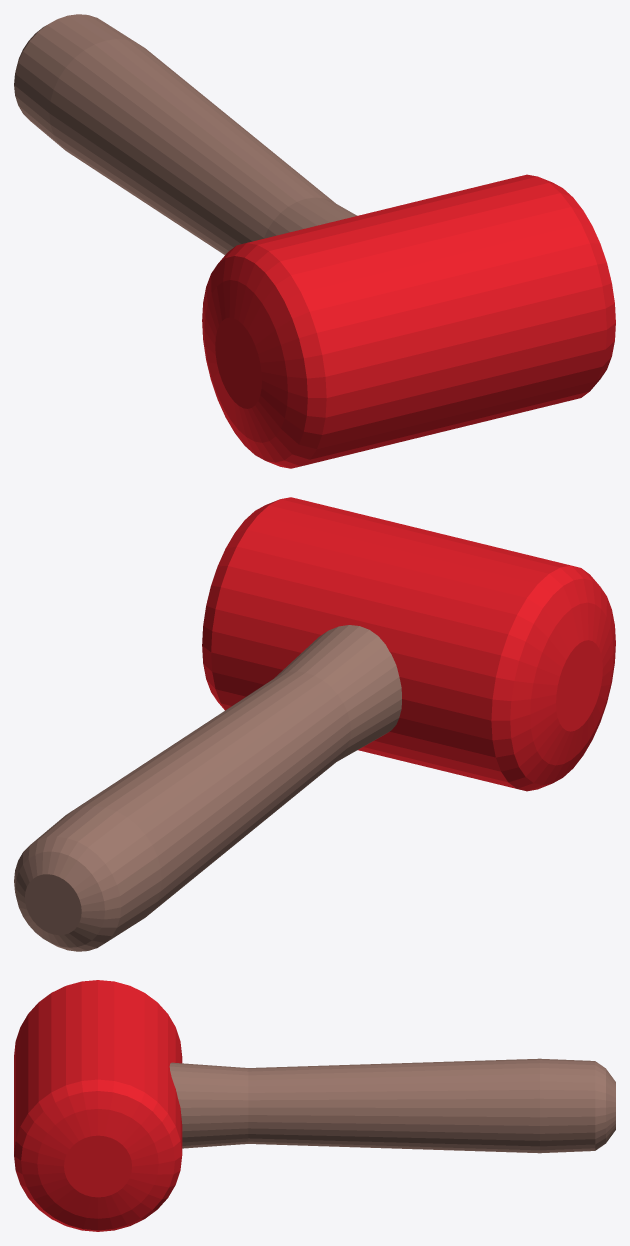
Rendered from hammer.fbx.
3 views of the same model, one above another, from view 1: azimuth 30°, elevation 25°; view 2: azimuth 150°, elevation 25°; view 3: azimuth 270°, elevation 25° (orthographic). The views are drawn at different scales.
Parts seen in each view (by area): view 1: Hammer; view 2: Hammer; view 3: Hammer.
Part boxes in pixels (x1,y1,x2,y2): Hammer: (14, 14, 615, 468); Hammer: (14, 497, 615, 951); Hammer: (14, 980, 615, 1231).
Bounding box in the file's own units: 21.33 × 12.52 × 44.82.
